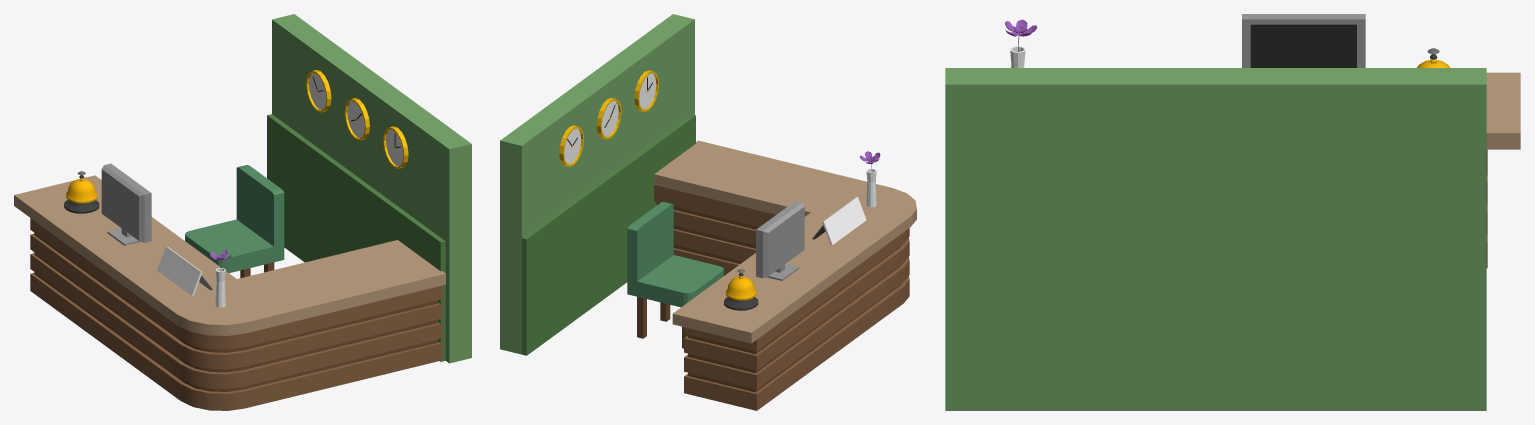
The model's file is Reception.fbx.
3 views of the same model, side by side, from view 1: azimuth 30°, elevation 25°; view 2: azimuth 150°, elevation 25°; view 3: azimuth 270°, elevation 25° (orthographic). The views are drawn at different scales.
Parts seen in each view (by area): view 1: Bar, Chair, Computer, Reception, Bell, Flower; view 2: Bar, Chair, Computer, Reception, Bell, Flower; view 3: Bar, Computer, Flower.
Boxes of the visible parts, x1,y1,x2,y2 form: Bar: [14, 14, 471, 410]; Chair: [185, 165, 284, 278]; Computer: [101, 163, 151, 245]; Reception: [157, 246, 212, 295]; Bell: [64, 171, 99, 213]; Flower: [210, 250, 231, 307]; Bar: [500, 14, 916, 410]; Chair: [627, 201, 723, 348]; Computer: [756, 201, 804, 280]; Reception: [812, 196, 866, 245]; Bell: [724, 269, 758, 310]; Flower: [859, 151, 880, 207]; Bar: [945, 68, 1520, 410]; Computer: [1242, 14, 1365, 67]; Flower: [1005, 19, 1037, 67].
Bounding box in the file's own units: 175 × 133 × 212.
